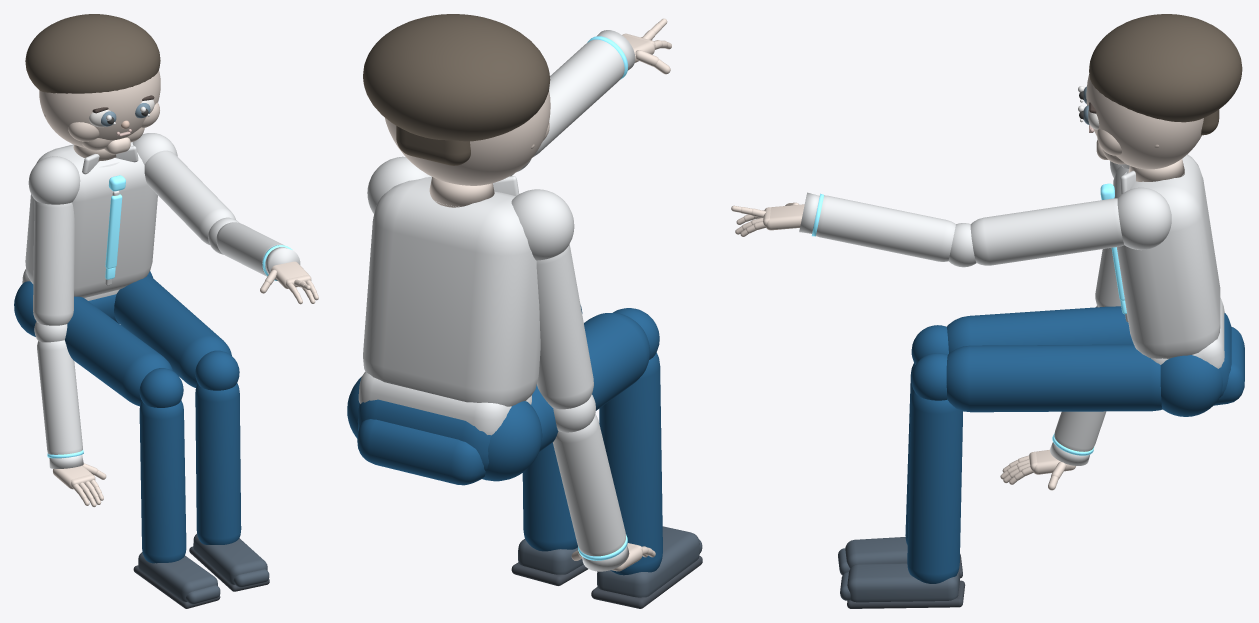
The model's file is lead-figure-point.glb.
3 renders of one model, left to right at view 1: azimuth 30°, elevation 25°; view 2: azimuth 150°, elevation 25°; view 3: azimuth 270°, elevation 25°, orthographic. The views are drawn at different scales.
Visible parts, largest first — view 1: Shirt, Hair, LowerLeg_L, LowerLeg_R, UpperLeg_R, UpperLeg_L, UpperArm_L, Head, ForeArm_L, UpperArm_R, Shoulder_L, Foot_L (+16 smaller); view 2: Shirt, Hair, LowerLeg_L, UpperArm_L, ForeArm_L, SeatMass, UpperLeg_L, Head, ForeArm_R, LowerLeg_R, ShirtTail, Hip_L (+14 smaller); view 3: UpperLeg_R, Shirt, Hair, LowerLeg_R, UpperArm_R, UpperLeg_L, ForeArm_R, Head, Foot_R, Hip_R, Shoulder_R, ForeArm_L (+10 smaller).
Part boxes in pixels (left/top/right/bottom): Shirt: left=25, top=142, right=157, bottom=297; Hair: left=25, top=14, right=160, bottom=93; LowerLeg_L: left=139, top=400, right=186, bottom=563; LowerLeg_R: left=195, top=383, right=241, bottom=544; UpperLeg_R: left=114, top=275, right=231, bottom=387; UpperLeg_L: left=35, top=296, right=172, bottom=406; UpperArm_L: left=33, top=200, right=74, bottom=325; Head: left=39, top=70, right=160, bottom=147; ForeArm_L: left=37, top=340, right=82, bottom=454; UpperArm_R: left=144, top=150, right=235, bottom=244; Shoulder_L: left=28, top=156, right=80, bottom=204; Foot_L: left=138, top=552, right=217, bottom=601; Shirt: left=363, top=176, right=540, bottom=406; Hair: left=363, top=14, right=550, bottom=141; LowerLeg_L: left=599, top=352, right=662, bottom=575; UpperArm_L: left=536, top=244, right=593, bottom=409; ForeArm_L: left=553, top=414, right=625, bottom=556; SeatMass: left=357, top=419, right=485, bottom=485; UpperLeg_L: left=531, top=313, right=650, bottom=451; Head: left=384, top=90, right=550, bottom=185; ForeArm_R: left=532, top=39, right=624, bottom=157; LowerLeg_R: left=522, top=442, right=577, bottom=551; ShirtTail: left=358, top=371, right=531, bottom=435; Hip_L: left=482, top=401, right=542, bottom=481; UpperLeg_R: left=946, top=344, right=1162, bottom=412; Shirt: left=1113, top=154, right=1220, bottom=358; Hair: left=1089, top=14, right=1242, bottom=122; LowerLeg_R: left=907, top=391, right=962, bottom=583; UpperArm_R: left=970, top=198, right=1124, bottom=265; UpperLeg_L: left=947, top=306, right=1133, bottom=353; ForeArm_R: left=812, top=195, right=955, bottom=261; Head: left=1086, top=74, right=1203, bottom=169; Foot_R: left=847, top=563, right=959, bottom=602; Hip_R: left=1160, top=355, right=1222, bottom=416; Shoulder_R: left=1117, top=187, right=1171, bottom=250; ForeArm_L: left=1054, top=411, right=1106, bottom=451.
Bounding box in the file's own units: 0.4142 × 1.23 × 1.02.
